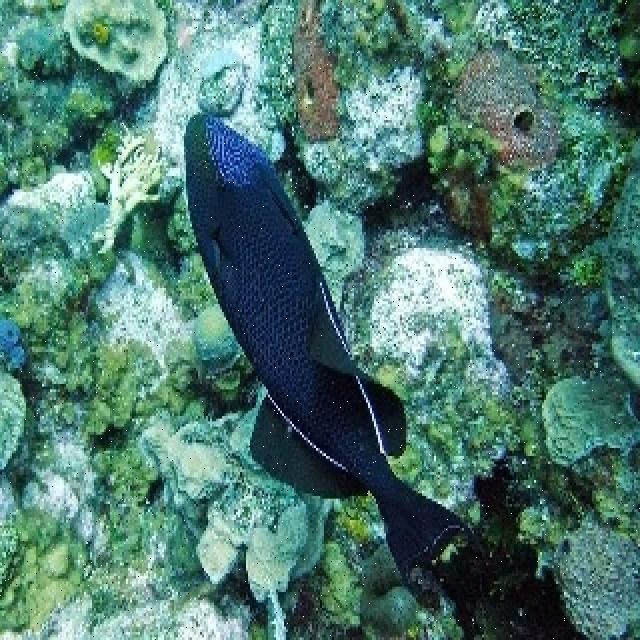fish: (183, 111, 474, 596)
